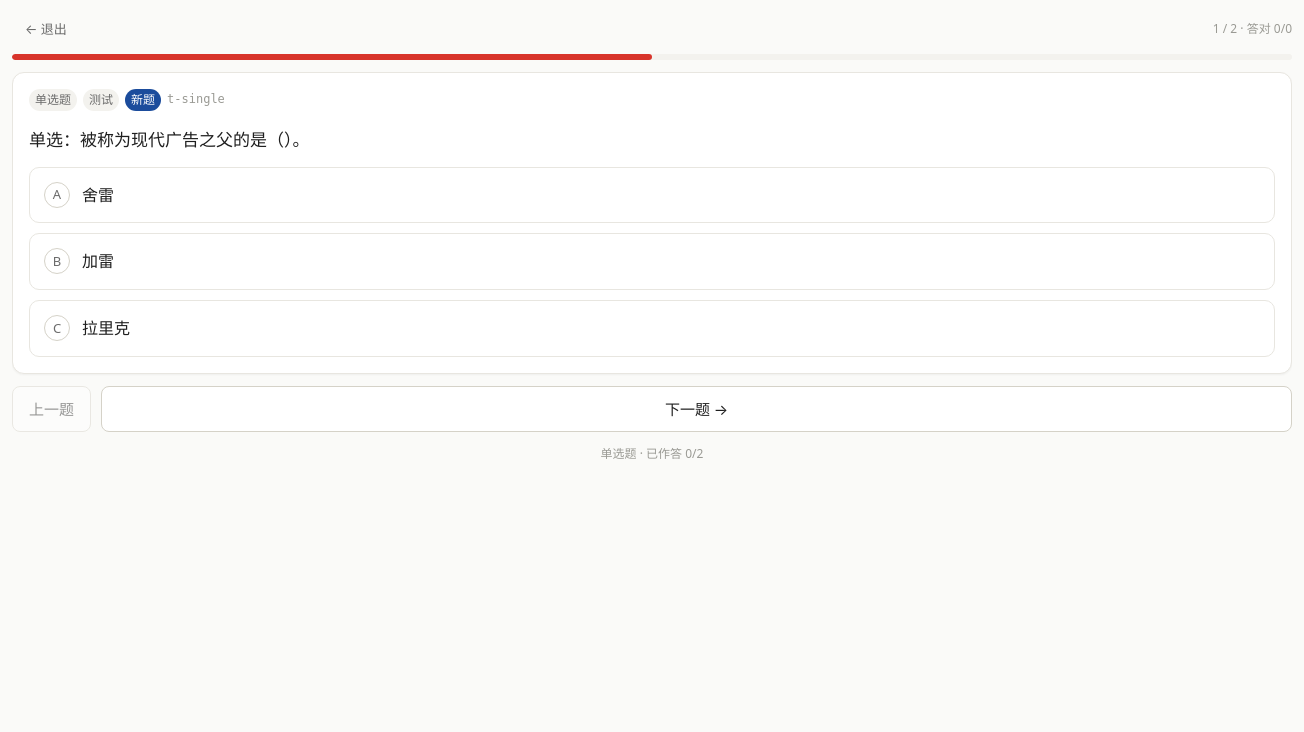
Scenario: 答题流程 · 下一题推进 › 单选题：点选后下一题可推进
Step 1. Click the text "舍雷" → (98, 195), box x1=82 y1=184 x2=114 y2=206
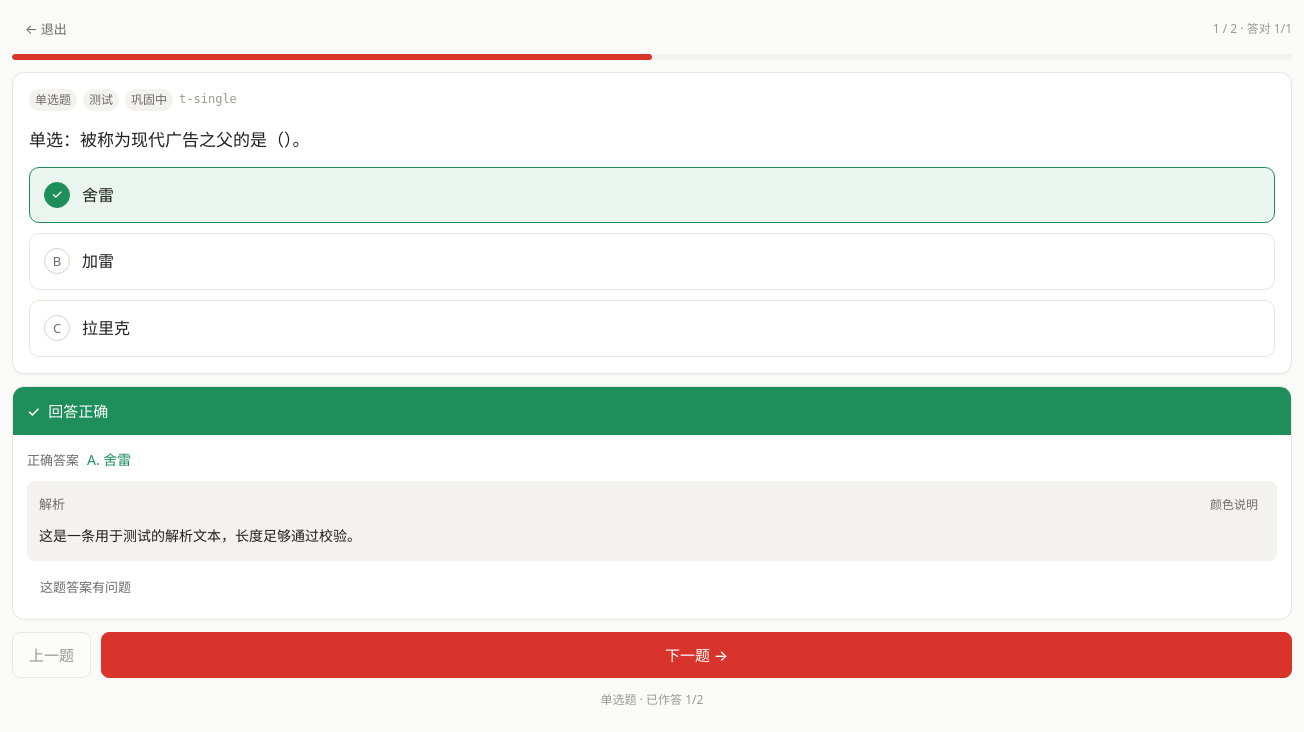
Step 2. Click the button "下一题 →" → (696, 655), box x1=101 y1=632 x2=1292 y2=678
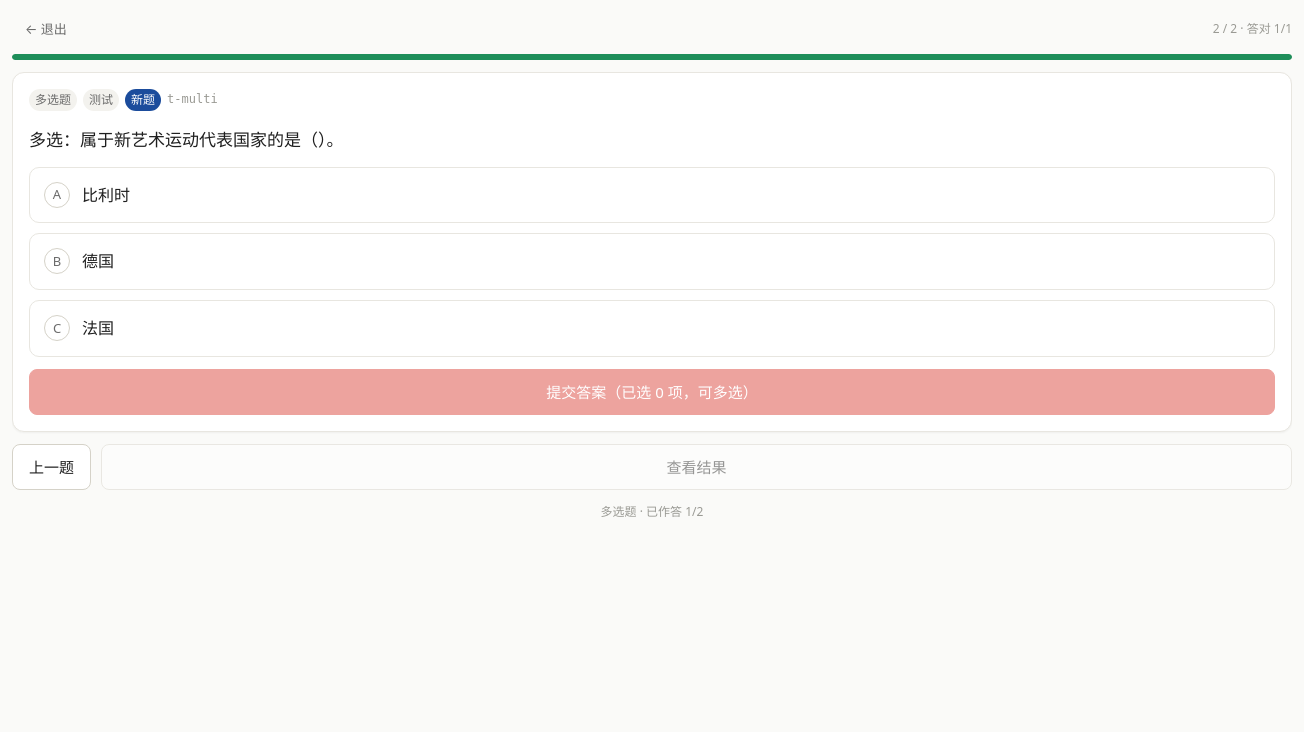
Check: the text "2 / 2 · 答对 1/1" is shown, box x1=1213 y1=19 x2=1292 y2=39
